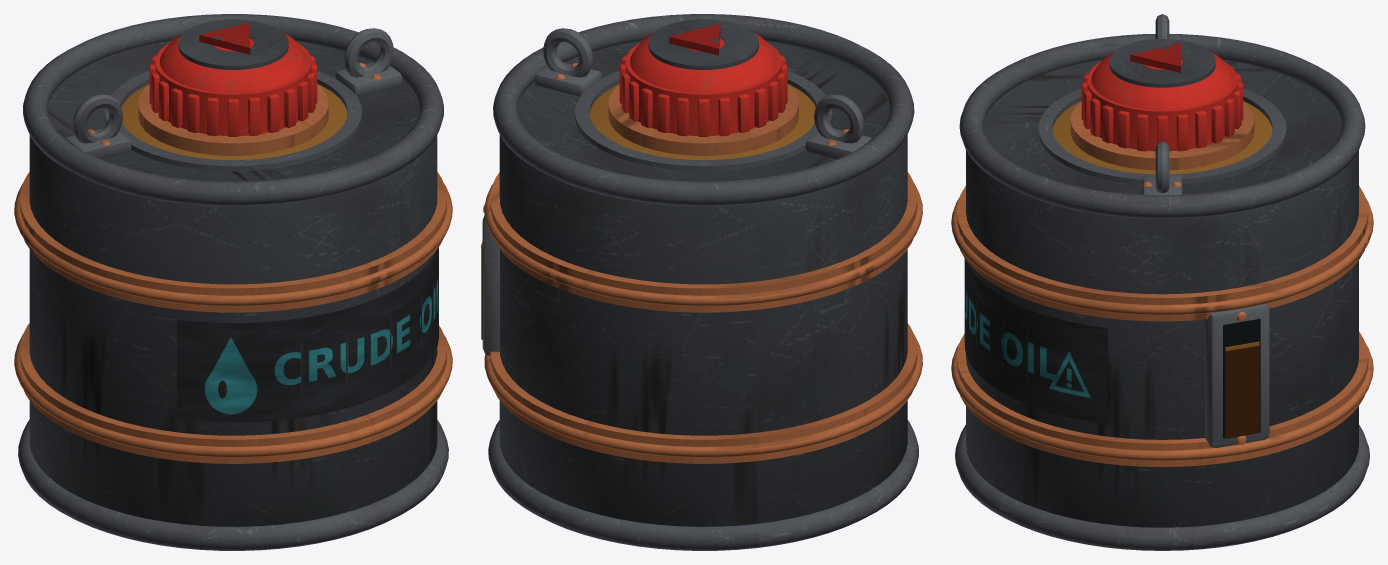
The model's file is crude_oil.glb.
3 views of the same model, side by side, from view 1: azimuth 30°, elevation 25°; view 2: azimuth 150°, elevation 25°; view 3: azimuth 270°, elevation 25° (orthographic). The views are drawn at different scales.
Parts seen in each view (by area): view 1: Drum, Cap; view 2: Drum, Cap; view 3: Drum, Cap, Level.001.
Part boxes in pixels (bbox=[...]): Drum: bbox=[14, 14, 452, 550]; Cap: bbox=[149, 19, 317, 136]; Drum: bbox=[482, 14, 922, 550]; Cap: bbox=[619, 19, 787, 136]; Drum: bbox=[951, 14, 1373, 550]; Cap: bbox=[1081, 39, 1243, 151]; Level.001: bbox=[1225, 341, 1259, 438].
Bounding box in the file's own units: 0.46 × 0.4953 × 0.46.
Materials: 13 (9 with a texture image).
